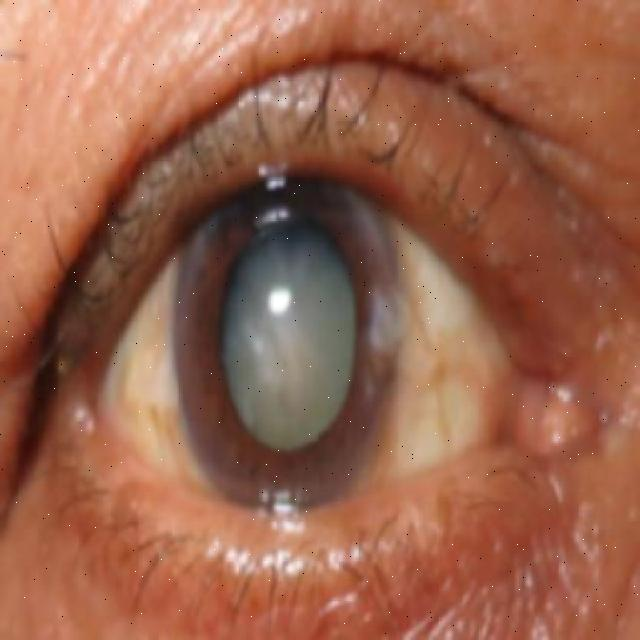Cataract: (176, 160, 399, 518)
